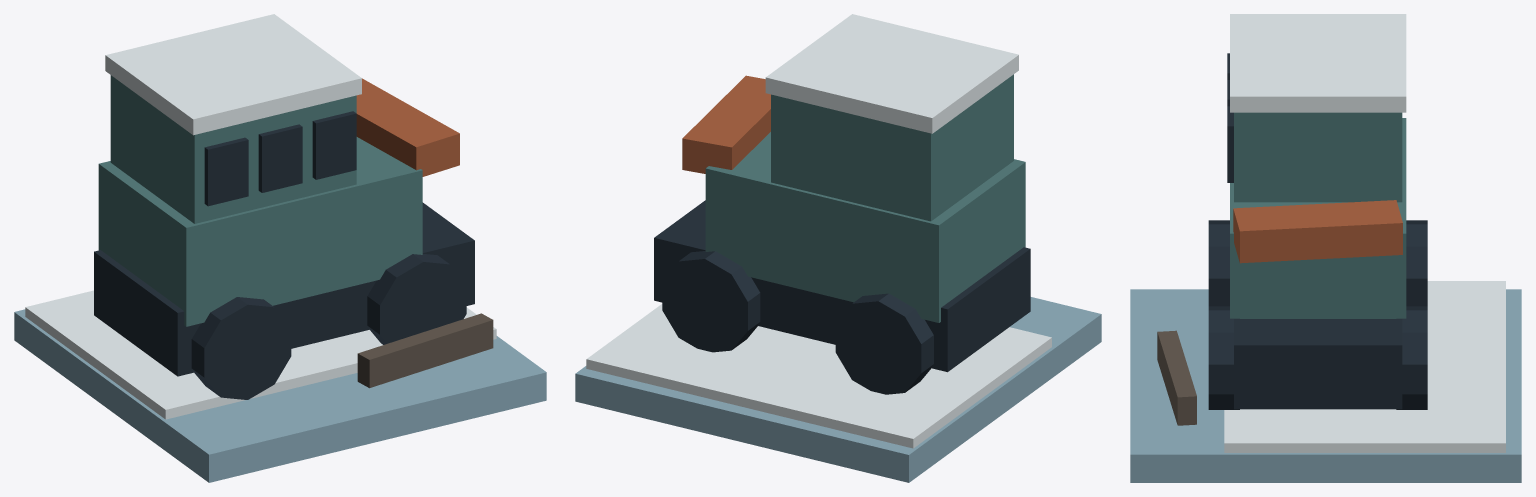
Rendered from wrecked_vehicle.glb.
3 renders of one model, left to right at view 1: azimuth 30°, elevation 25°; view 2: azimuth 150°, elevation 25°; view 3: azimuth 270°, elevation 25°, orthographic.
Visible parts, largest first — view 1: wrecked_transport; view 2: wrecked_transport; view 3: wrecked_transport.
Part boxes in pixels (box(x1,y1,x2,y2)): wrecked_transport: box(14, 14, 546, 482); wrecked_transport: box(575, 14, 1101, 482); wrecked_transport: box(1130, 14, 1521, 482).
Size of the model in its own units: 1 by 0.9025 by 1.
